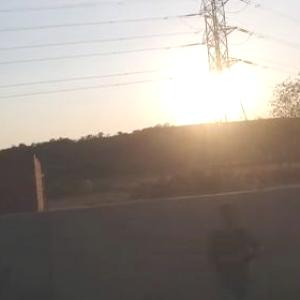follow: (210, 195, 268, 299)
